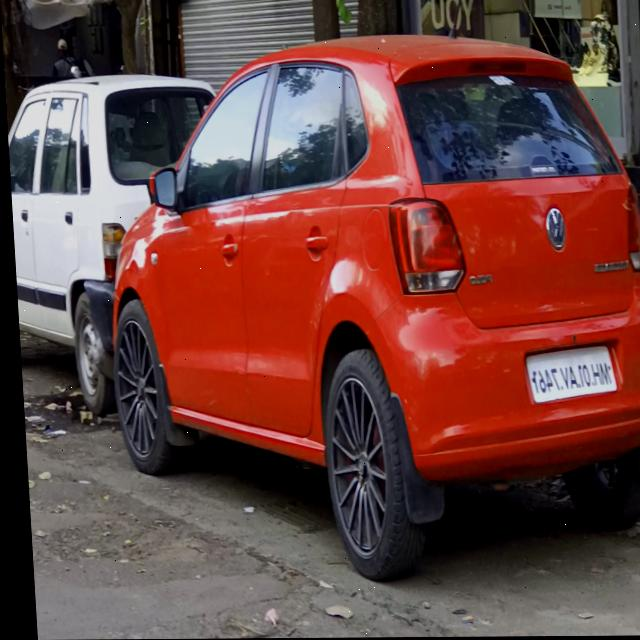plate: (519, 345, 615, 407)
